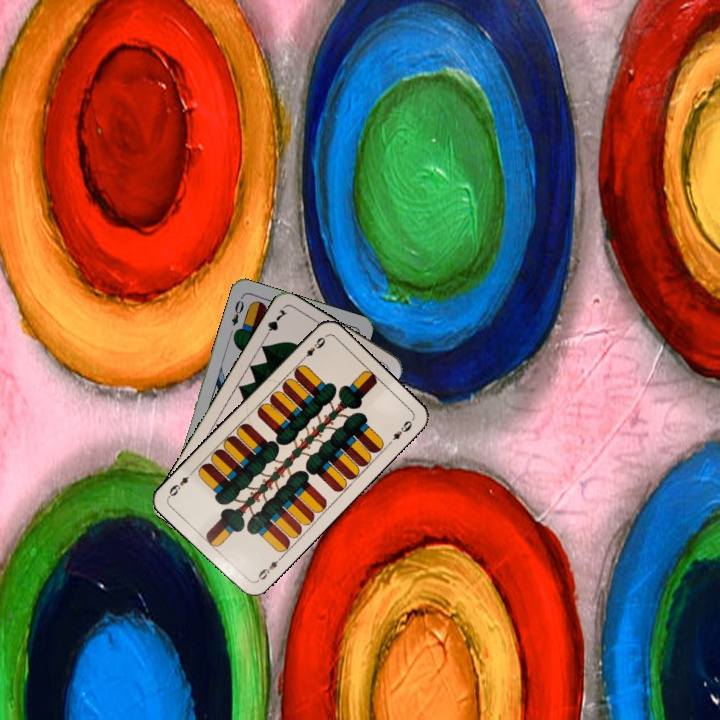E9: (296, 332, 329, 364), (253, 552, 285, 584)
EO: (227, 293, 247, 328)
G7: (260, 305, 290, 342)
